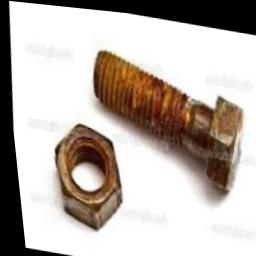Corroded-Bolt: (89, 47, 242, 186)
Corroded-Nut: (50, 121, 119, 229)
